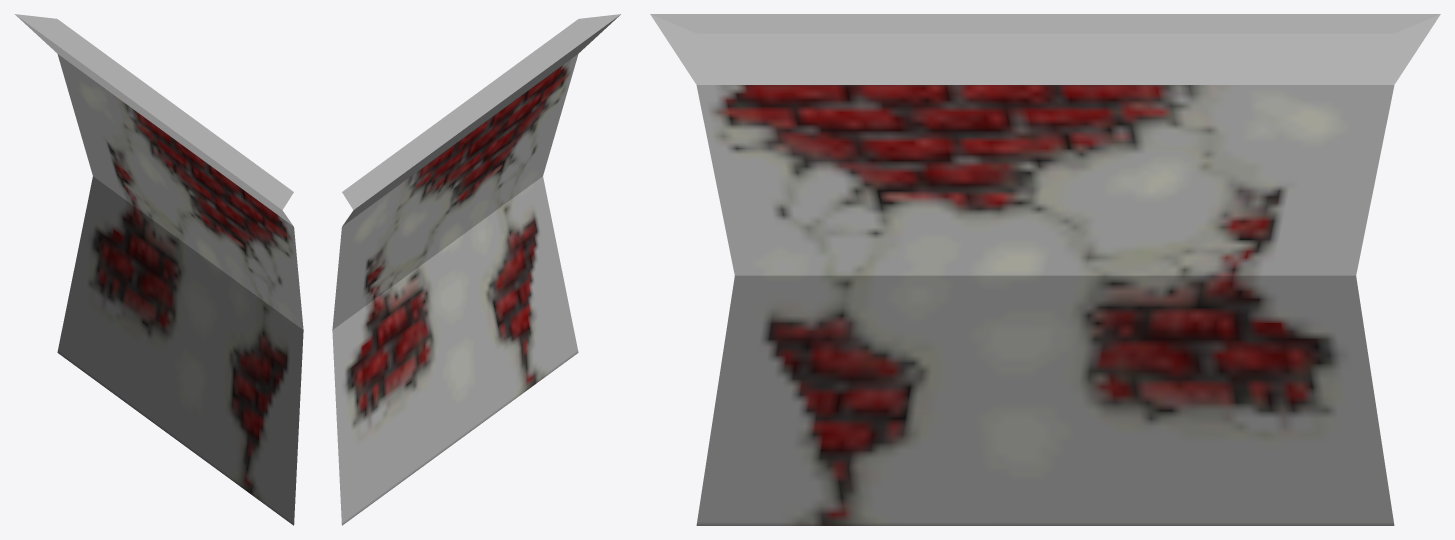
File: W_A1_xx [Verwahrlost3]_1562.glb
3 renders of one model, left to right at view 1: azimuth 30°, elevation 25°; view 2: azimuth 150°, elevation 25°; view 3: azimuth 270°, elevation 25°, orthographic. The views are drawn at different scales.
Visible parts, largest first — view 1: pPlaneShape1, polySurfaceShape1065; view 2: pPlaneShape1, polySurfaceShape1065; view 3: pPlaneShape1, polySurfaceShape1065.
Part boxes in pixels (x1,y1,x2,y2): pPlaneShape1: [57, 54, 303, 525]; polySurfaceShape1065: [15, 14, 293, 226]; pPlaneShape1: [332, 54, 578, 525]; polySurfaceShape1065: [342, 14, 620, 226]; pPlaneShape1: [696, 85, 1394, 525]; polySurfaceShape1065: [650, 14, 1440, 84].
Size of the model in its own units: 0.0607 by 0.3891 by 0.5666.
2 materials, 1 textured.
